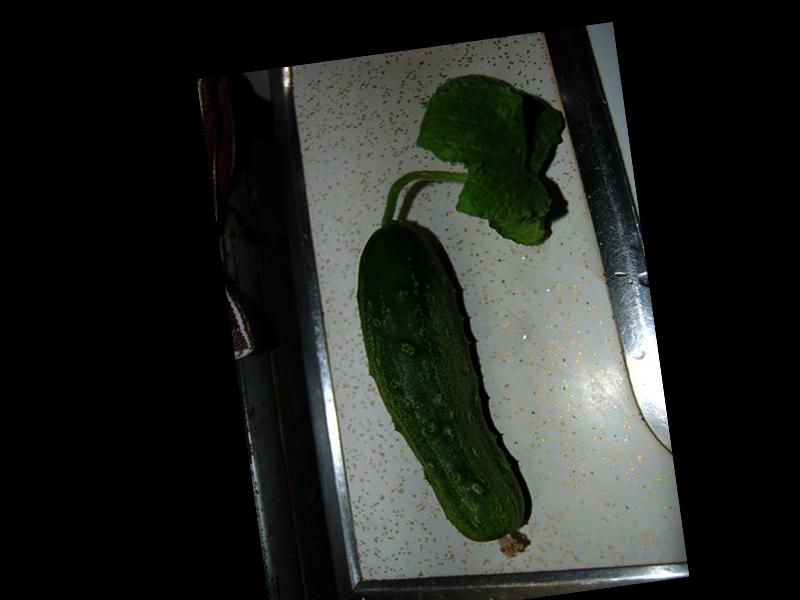Cucumber: (346, 206, 534, 573)
